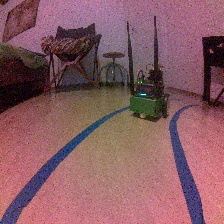rob: (128, 68, 170, 120)
